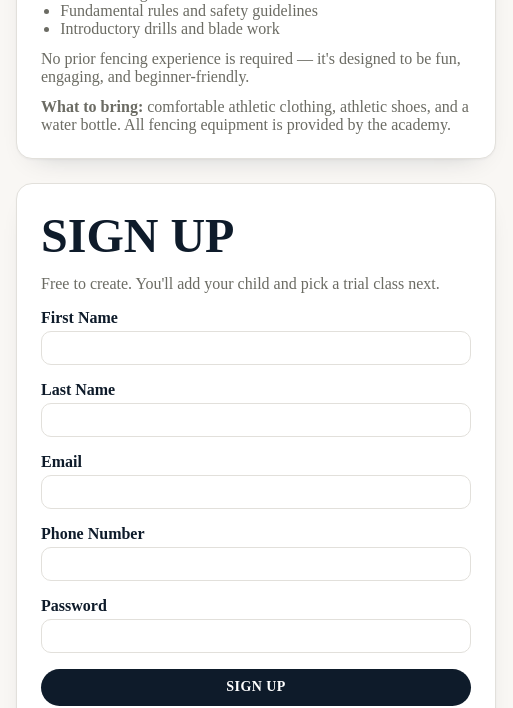
RegisterPage › shows an inline error message on a 409 duplicate-email response, without crashing
(page scrolled)
Step 1. Type "Dup" into the field labelled "First Name" → (256, 348), box [41,331,471,365]
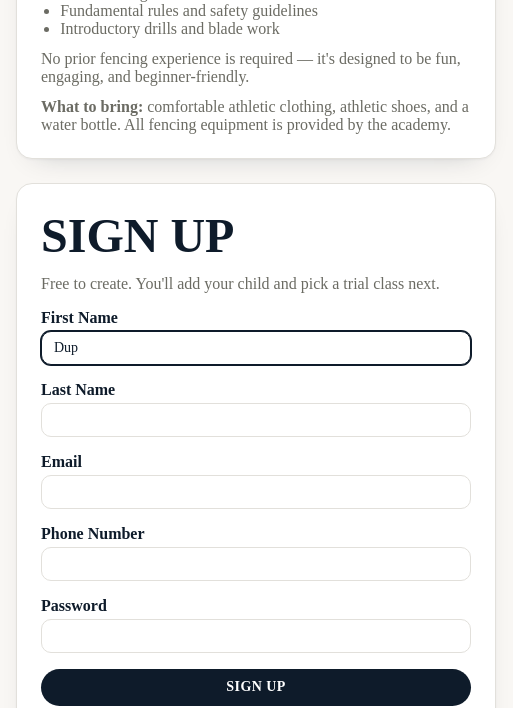
Step 2. Type "Parent" into the field labelled "Last Name" → (256, 420), box [41,403,471,437]
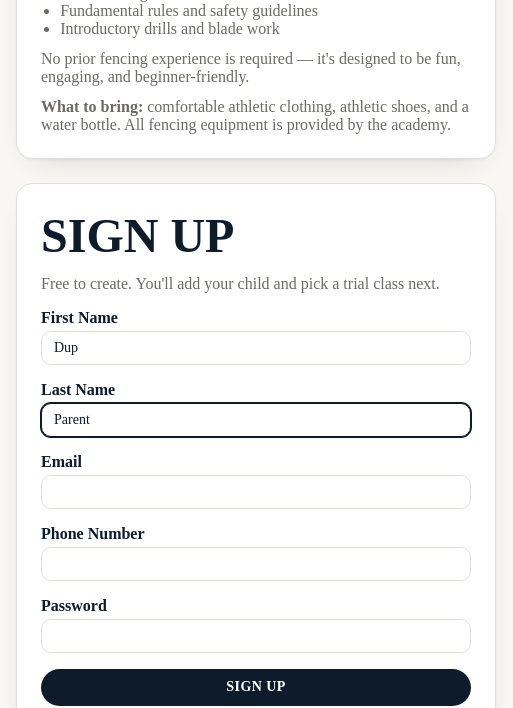
Step 3. Type "dup-parent@example.com" into the field labelled "Email" → (256, 492), box [41,475,471,509]
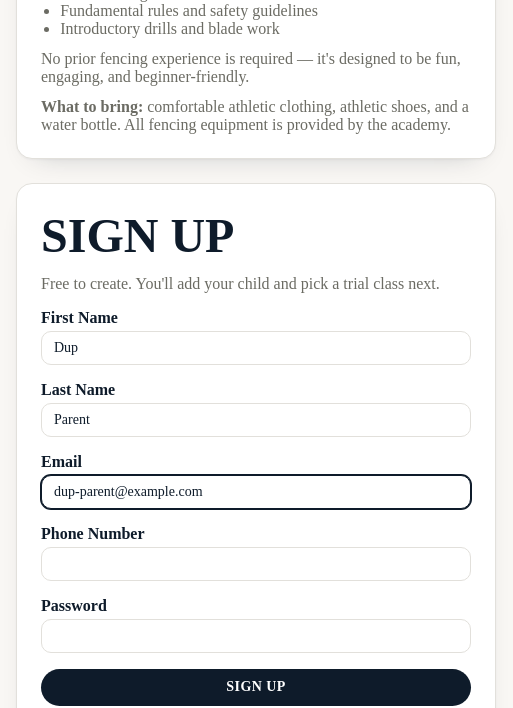
Step 4. Type "555-123-4567" into the field labelled "Phone Number" → (256, 564), box [41,547,471,581]
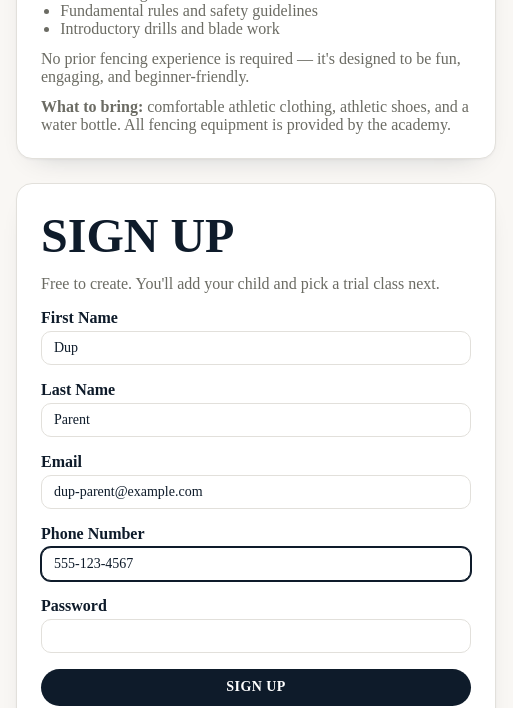
Step 5. Type "a-strong-password" into the password field labelled "Password" → (256, 636), box [41,619,471,653]
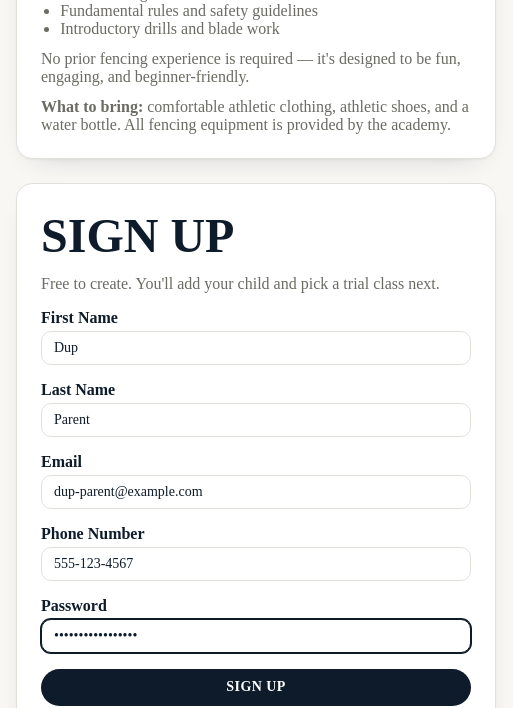
Step 6. Click the button "Sign Up" → (256, 687), box [41,669,471,706]
(page scrolled)
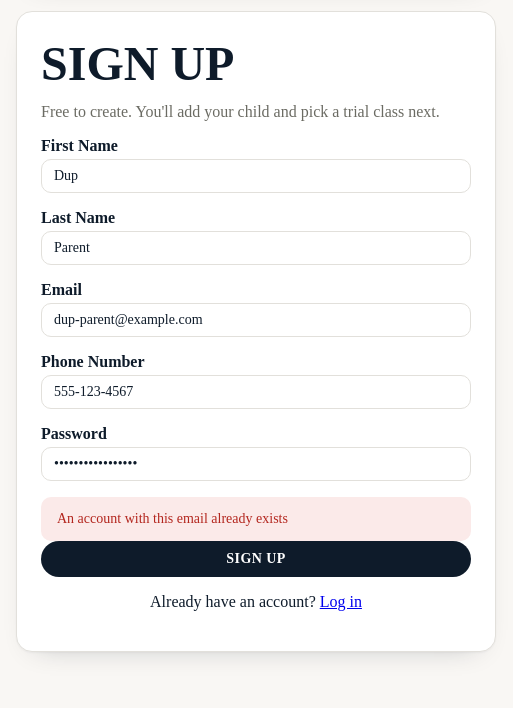
Expected: the message reads "An account with this email already exists", [57,511,288,526]
